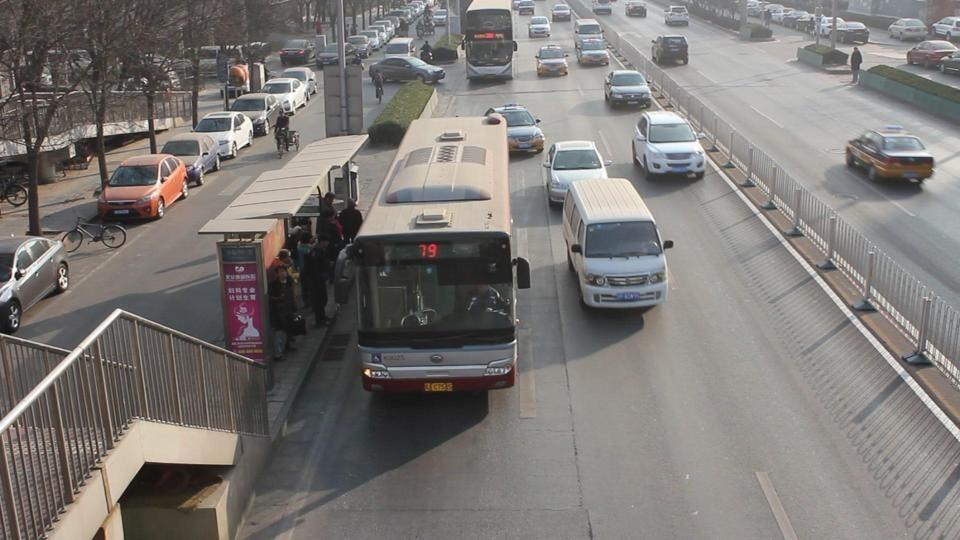car: (559, 177, 677, 312), (0, 233, 71, 333), (95, 153, 188, 223), (630, 111, 706, 180), (844, 127, 934, 185), (161, 119, 250, 172), (541, 140, 608, 208), (157, 133, 222, 186), (483, 105, 545, 155), (193, 112, 254, 158), (370, 55, 447, 87), (229, 94, 282, 136), (604, 69, 652, 109), (260, 78, 306, 114), (573, 17, 607, 64), (906, 40, 957, 67), (650, 35, 689, 66), (534, 44, 570, 77), (888, 17, 930, 42), (931, 16, 960, 39), (528, 15, 552, 39), (664, 5, 690, 27), (939, 52, 960, 75)
